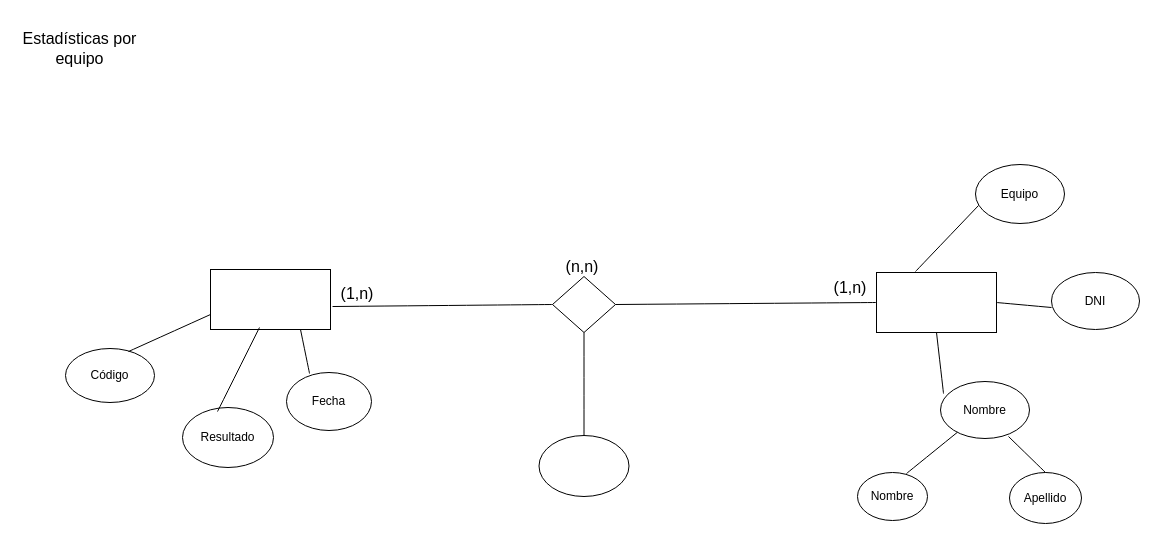
The diagram is 1157 pixels wide and 541 high, and some of its shapes have lost their labels. The shapes that lost their labels are listed below. From the top down, each one's centre as x and y in pixels, then its label:
At point (270, 299): "Partidos".
At point (936, 302): "Jugadores".
At point (583, 465): "Estadísticas".
